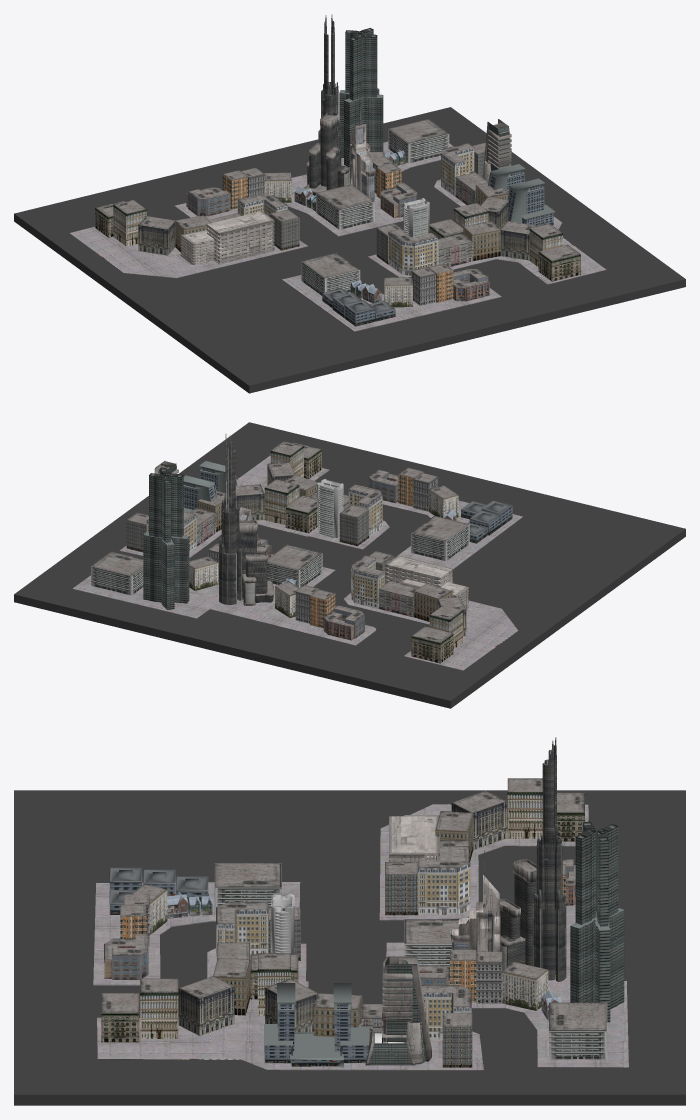
File: city.obj
3 views of the same model, one above another, from view 1: azimuth 30°, elevation 25°; view 2: azimuth 150°, elevation 25°; view 3: azimuth 270°, elevation 25° (orthographic). The views are drawn at different scales.
Visible parts, largest first — view 1: def, mesh01, bldgs2, sidewalks; view 2: def, mesh01, bldgs2, sidewalks; view 3: def, mesh01, bldgs2, sidewalks.
Boxes of the visible parts, left/top/right/bottom form: def: left=14, top=107, right=685, bottom=393; mesh01: left=95, top=119, right=580, bottom=307; bldgs2: left=180, top=14, right=555, bottom=326; sidewalks: left=70, top=141, right=606, bottom=331; def: left=14, top=422, right=685, bottom=708; mesh01: left=91, top=441, right=469, bottom=663; bldgs2: left=143, top=434, right=512, bottom=610; sidewalks: left=72, top=455, right=522, bottom=670; def: left=14, top=790, right=685, bottom=1105; mesh01: left=101, top=778, right=607, bottom=1067; bldgs2: left=109, top=737, right=624, bottom=1067; sidewalks: left=93, top=804, right=628, bottom=1070.
Size of the model in its own units: 2277 by 871 by 2124.
